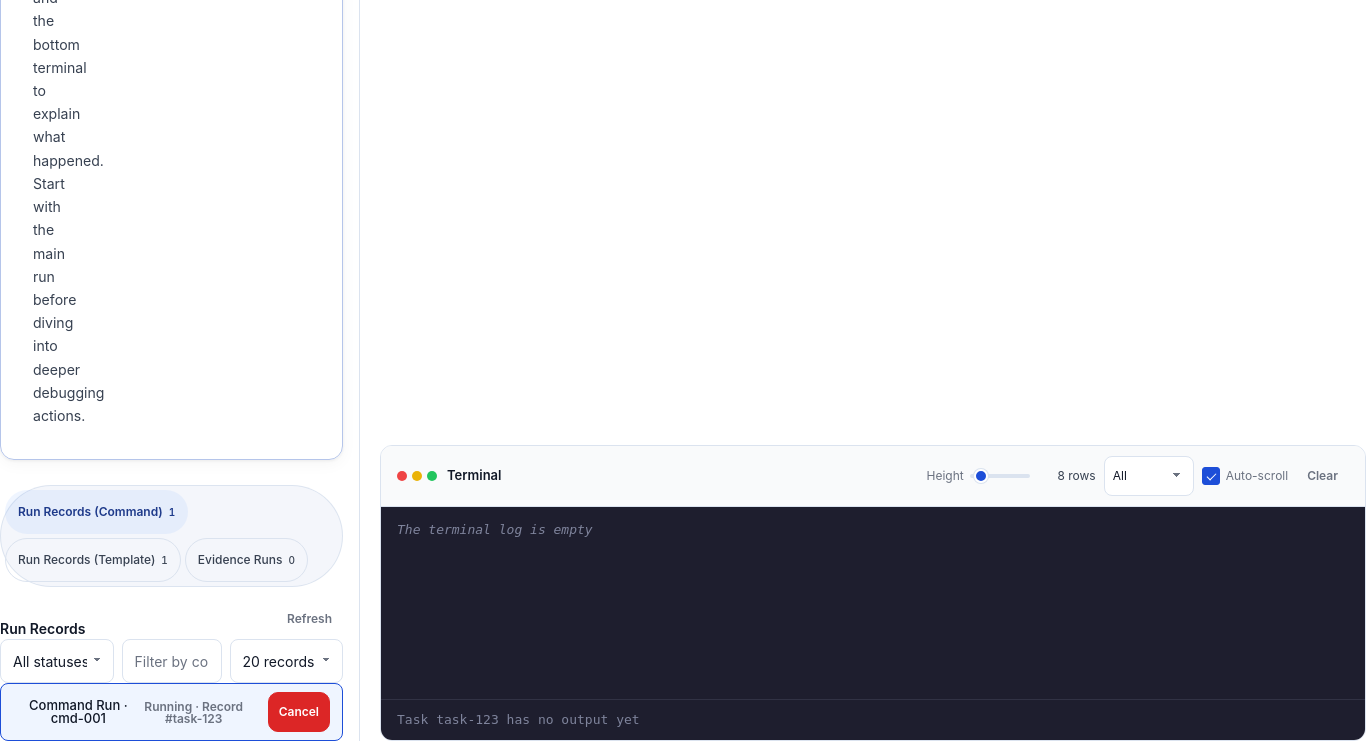
Scenario: TaskCenterView waiting state branches › keeps otp input flow for waiting_otp
This screenshot has width=1366, height=741.
(page scrolled)
Click the tab "Run Records (Template) 1" at (93, 560), box [5, 538, 181, 582]
(page scrolled)
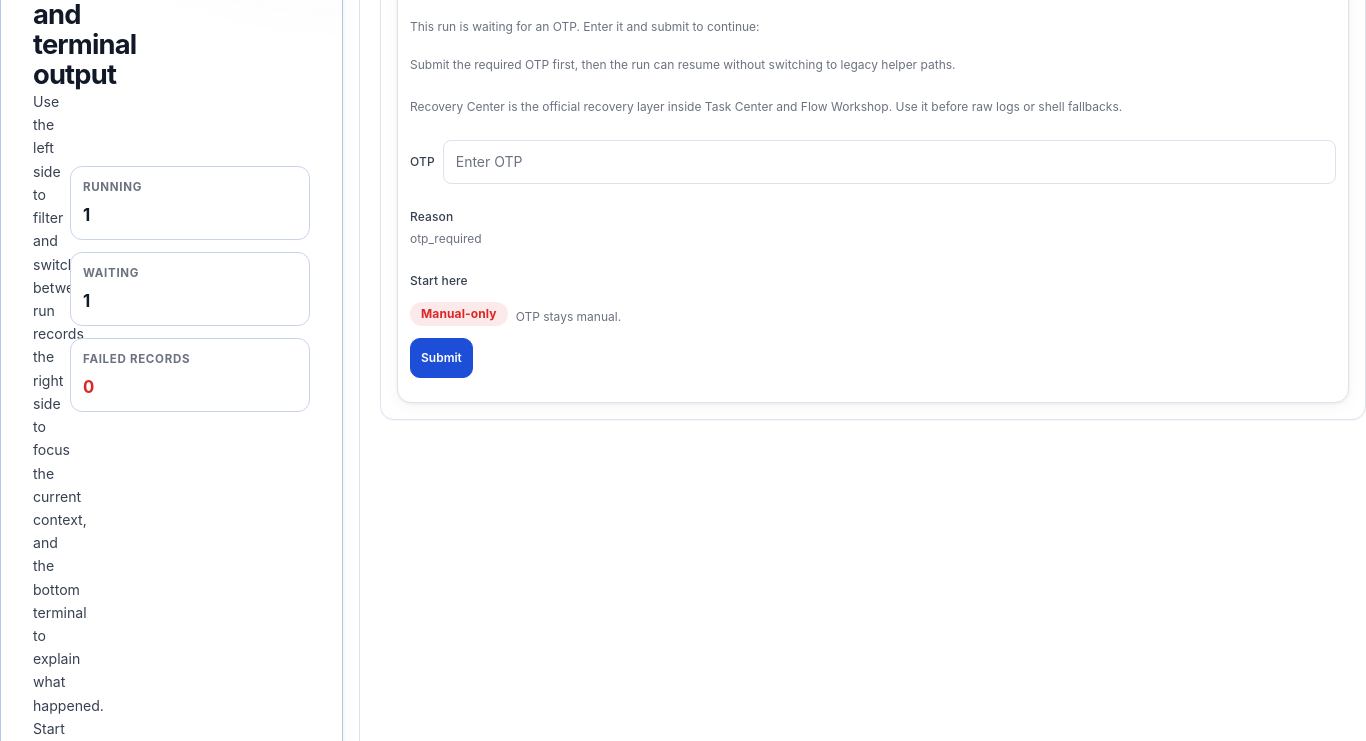
Now the text "This run is waiting for an OTP. Enter it and submit to continue:" is shown, box [410, 19, 760, 34]
Now the text "Recovery Center is the official recovery layer inside Task Center and Flow Workshop. Use it before raw logs or shell fallbacks." is shown, box [410, 99, 1122, 114]
Now the text "Manual-only" is shown, box [410, 302, 508, 326]
